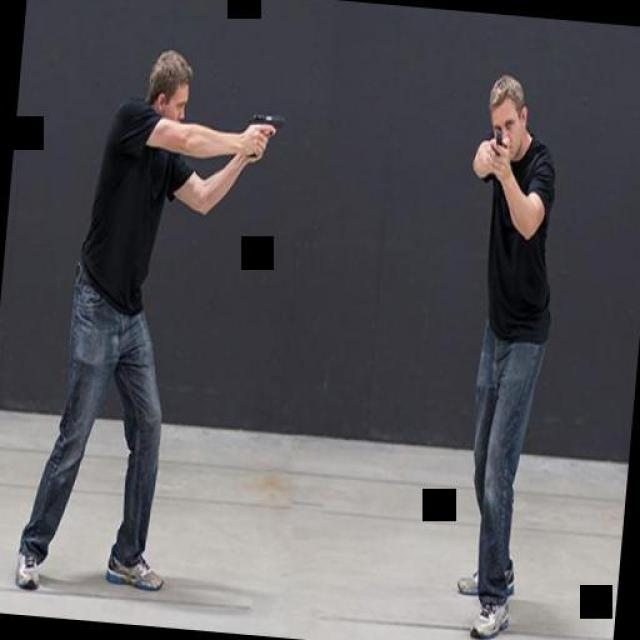gun: (234, 106, 291, 158), (483, 120, 505, 170)
